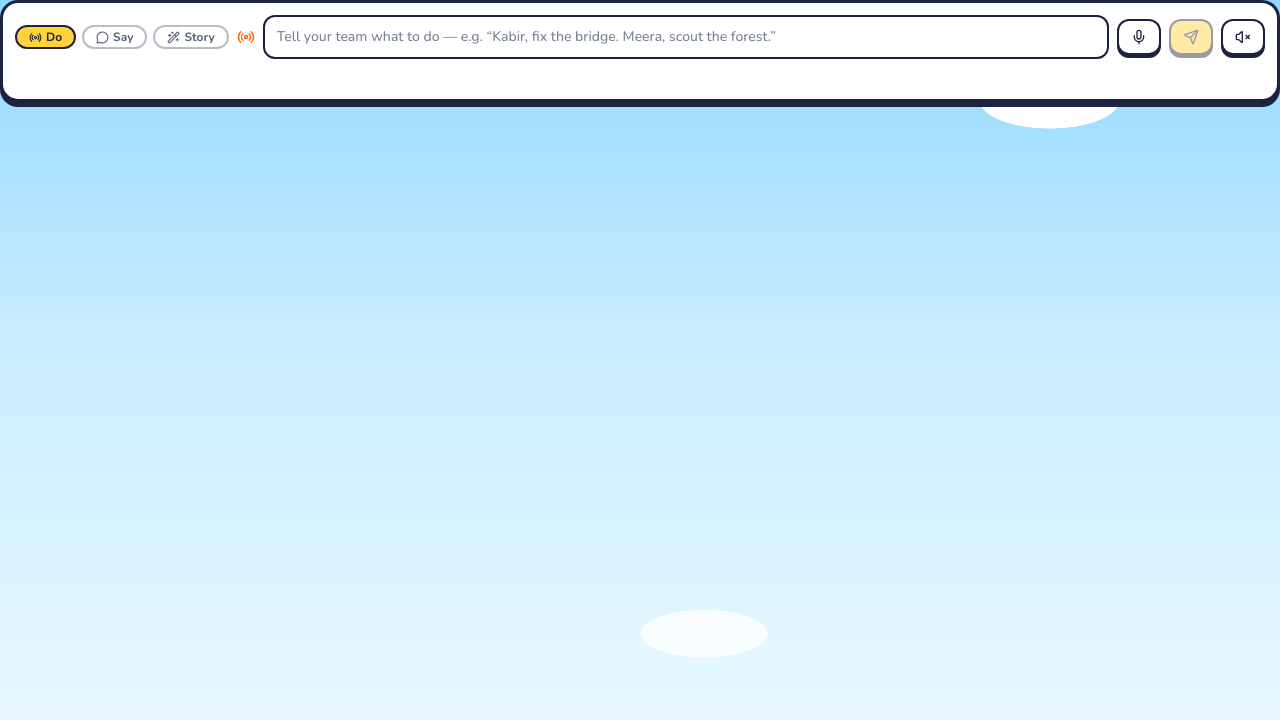
it: CommandBar tabs (Do / Say / Story) › writes twists from the Story tab and shows how many are left
The image size is (1280, 720).
Later steps or results of the test are not shown.
Click the tab "Story": click(191, 37) [154,25,229,49]
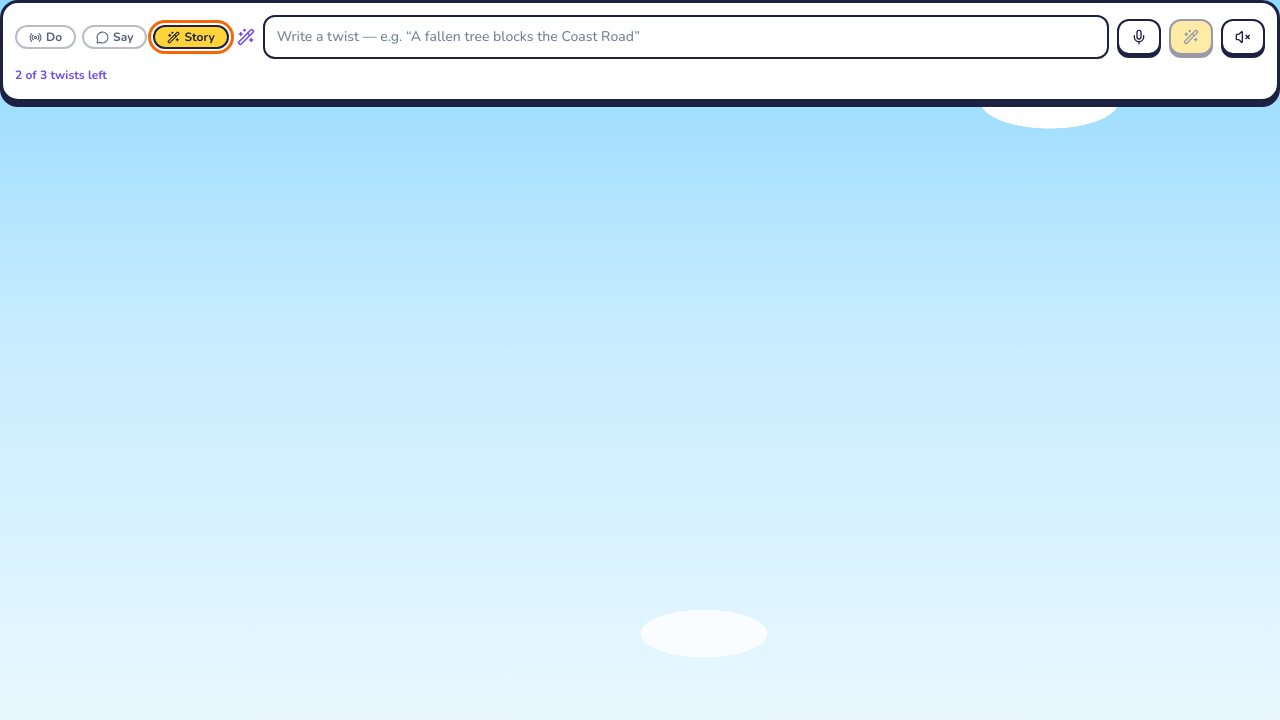
Expected: the text "2 of 3 twists left" is shown, [15,67,107,83]
